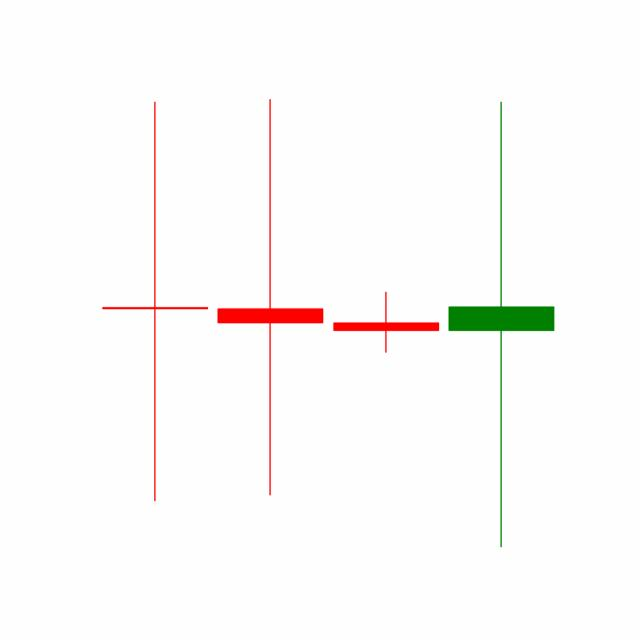Gravestone Doji: (328, 290, 444, 353)
